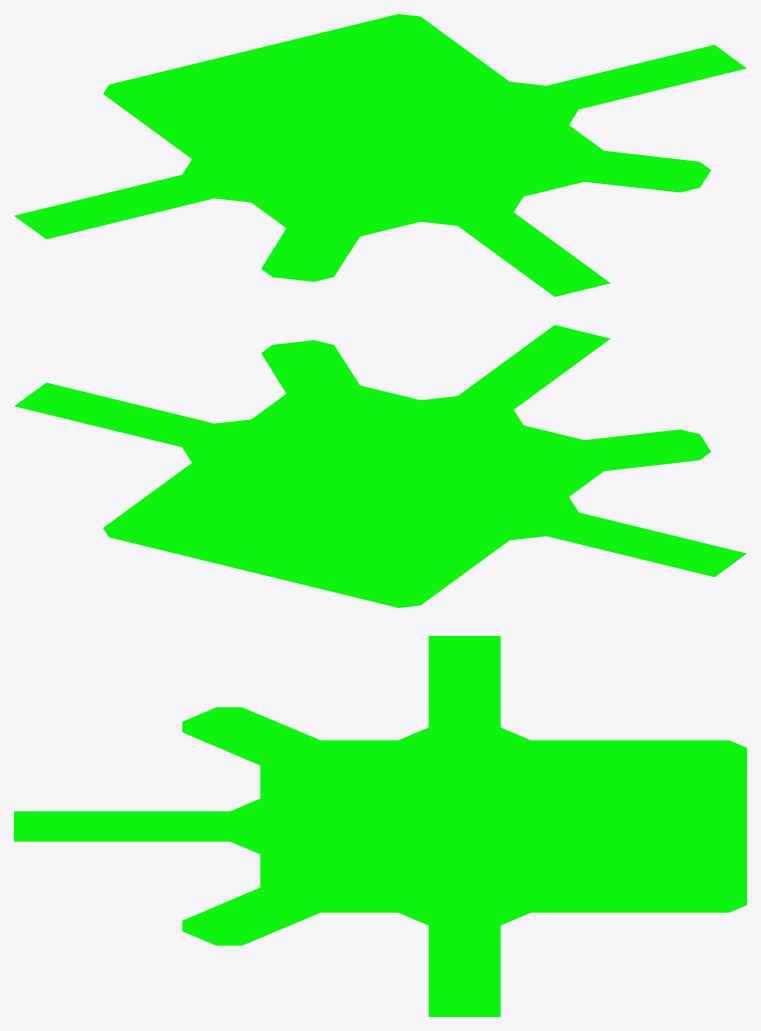
The model's file is s06b_td1-floor.glb.
3 renders of one model, top to bottom at view 1: azimuth 30°, elevation 25°; view 2: azimuth 150°, elevation 25°; view 3: azimuth 270°, elevation 25°, orthographic. The views are drawn at different scales.
Parts seen in each view (by area): view 1: collision_floor-colonly; view 2: collision_floor-colonly; view 3: collision_floor-colonly.
Boxes of the visible parts, <box> form: collision_floor-colonly: <box>14,14,746,296</box>; collision_floor-colonly: <box>14,325,746,607</box>; collision_floor-colonly: <box>14,636,746,1016</box>.
Bounding box in the file's own units: 75 × 0 × 61.
